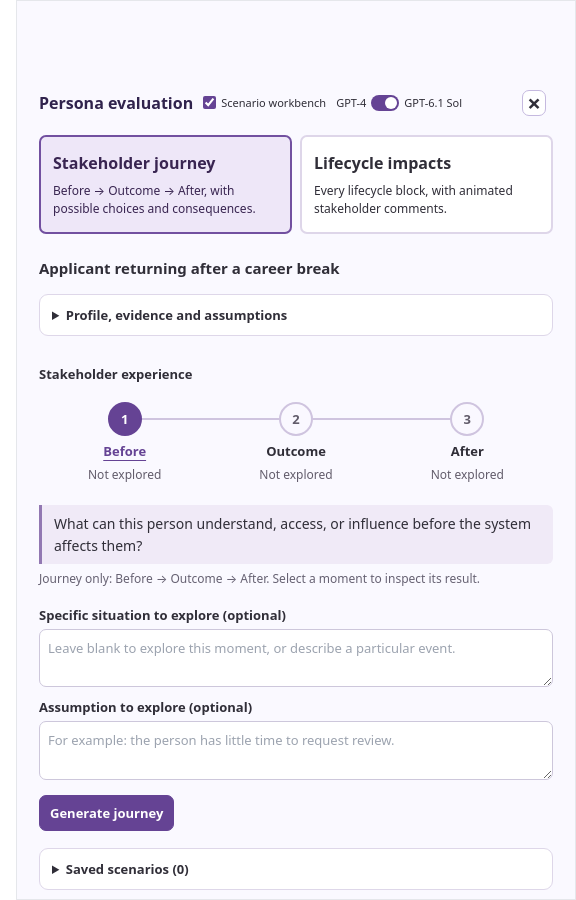
Test: stops a journey after failure while retaining completed moments
The image size is (576, 900).
Click the button "Generate journey".
click(107, 813)  # box [39,795,174,831]
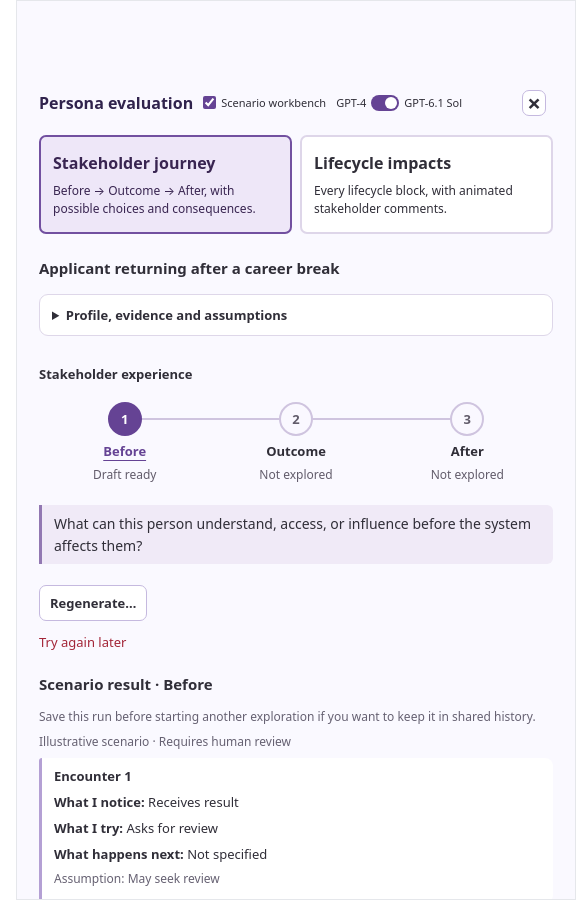
Check: the button "1 Before Draft ready" is enabled, box [39,402,210,493]
Check: the message "Try again later" is shown, box [39,633,126,651]
Check: the heading "Scenario result · Before" is shown, box [39,674,213,694]
